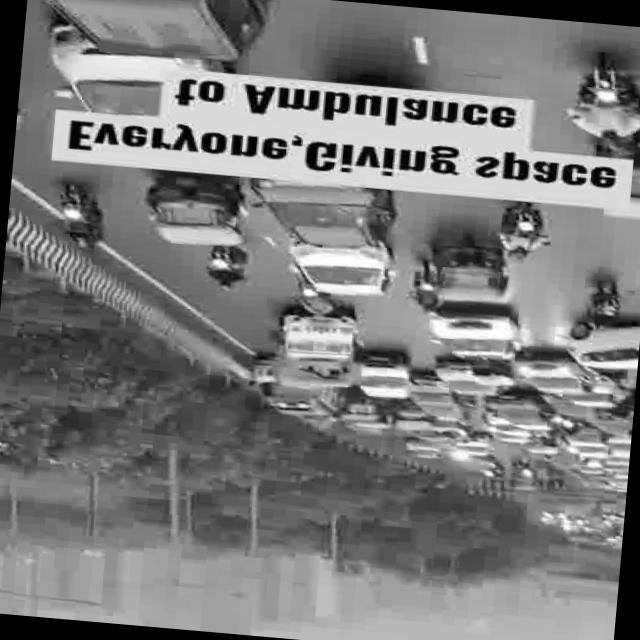ambulance: (245, 364, 352, 421)
